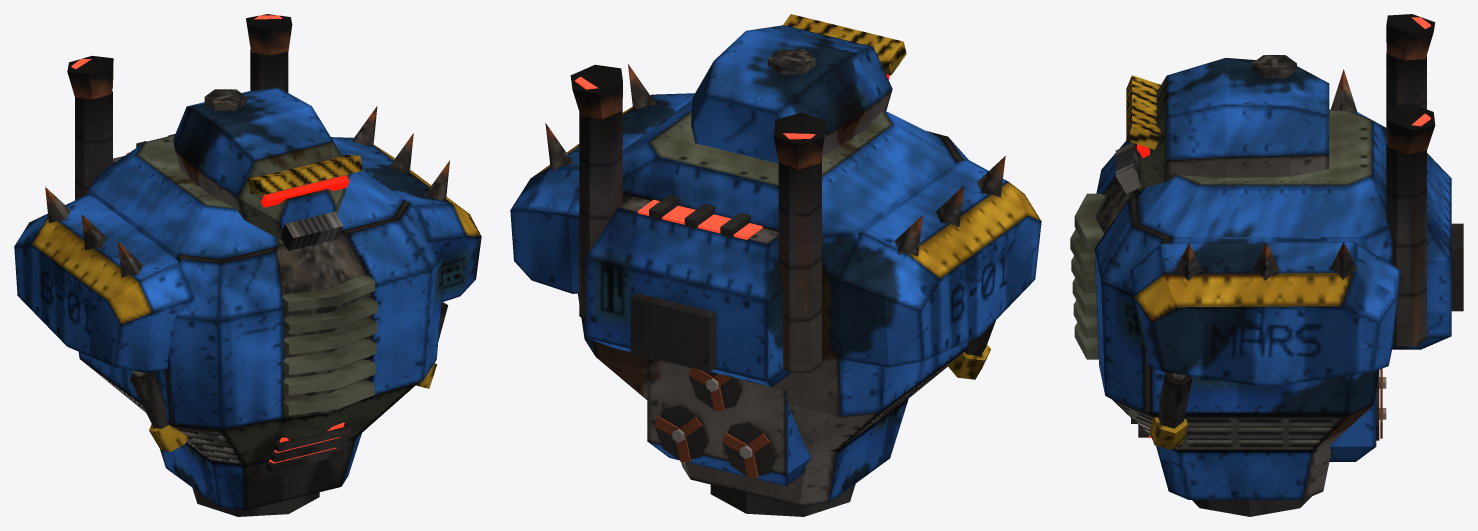
Rendered from BasicTorsoY.glb.
3 renders of one model, left to right at view 1: azimuth 30°, elevation 25°; view 2: azimuth 150°, elevation 25°; view 3: azimuth 270°, elevation 25°, orthographic. The views are drawn at different scales.
Visible parts, largest first — view 1: BasicTorsoY_Body, BasicTorsoY_Head; view 2: BasicTorsoY_Body, BasicTorsoY_Head; view 3: BasicTorsoY_Body, BasicTorsoY_Head.
Part boxes in pixels (left/top/right/bottom): BasicTorsoY_Body: left=14, top=14, right=481, bottom=516; BasicTorsoY_Head: left=173, top=88, right=362, bottom=250; BasicTorsoY_Body: left=510, top=64, right=1041, bottom=516; BasicTorsoY_Head: left=691, top=14, right=906, bottom=163; BasicTorsoY_Body: left=1070, top=14, right=1463, bottom=516; BasicTorsoY_Head: left=1115, top=55, right=1329, bottom=193.
Size of the model in its own units: 10.9 by 11.4 by 9.67.
Materials: 18 (16 with a texture image).
